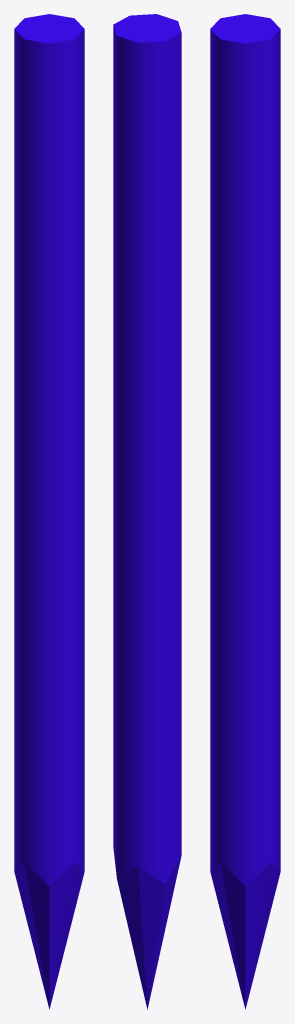
Rendered from office_pack_pencil_2_meshCollider.fbx.
3 renders of one model, left to right at view 1: azimuth 90°, elevation 25°; view 2: azimuth 210°, elevation 25°; view 3: azimuth 270°, elevation 25°, orthographic.
Parts seen in each view (by area): view 1: office_pack_pencil_2_meshCollider; view 2: office_pack_pencil_2_meshCollider; view 3: office_pack_pencil_2_meshCollider.
Boxes of the visible parts, box(x1,y1,x2,y2) form: office_pack_pencil_2_meshCollider: box(14, 14, 84, 1009); office_pack_pencil_2_meshCollider: box(113, 14, 181, 1009); office_pack_pencil_2_meshCollider: box(210, 14, 280, 1009).
Size of the model in its own units: 1.5 by 23.02 by 1.5.
